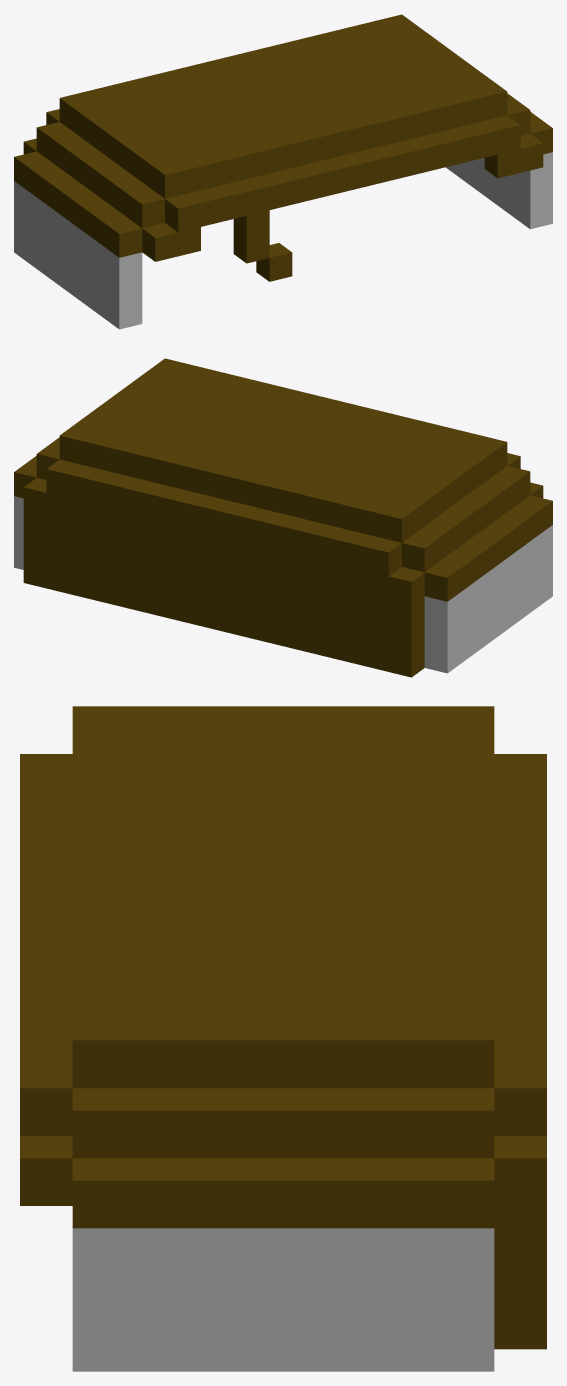
File: accessories_head_drstrange.glb
3 views of the same model, one above another, from view 1: azimuth 30°, elevation 25°; view 2: azimuth 150°, elevation 25°; view 3: azimuth 270°, elevation 25° (orthographic). The views are drawn at different scales.
Visible parts, largest first — view 1: model_0; view 2: model_0; view 3: model_0.
Boxes of the visible parts, x1=… form: model_0: x1=14, y1=14, x2=552, y2=329; model_0: x1=14, y1=358, x2=552, y2=677; model_0: x1=20, y1=706, x2=546, y2=1371.
Bounding box in the file's own units: 19 × 6 × 10.
